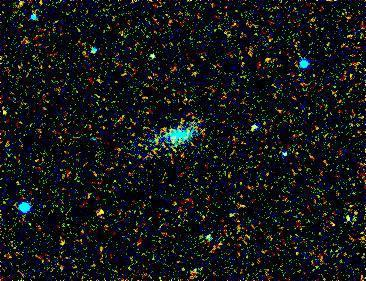star: (89, 201, 119, 231)
